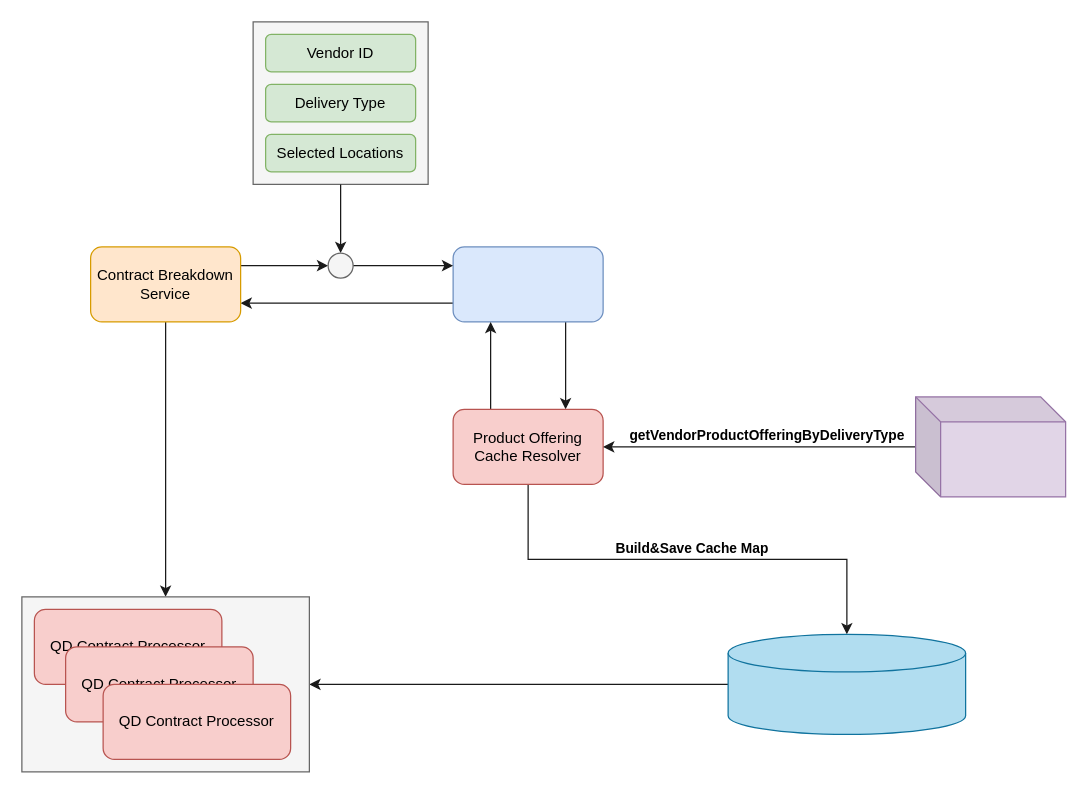
Image size: 1088x794. Some labels were removed from this diagram. Each missing label, with the box of its shape:
Init: (452, 246, 603, 322)
Product Cache Instance: (727, 633, 966, 734)
Product Service: (914, 396, 1066, 497)
